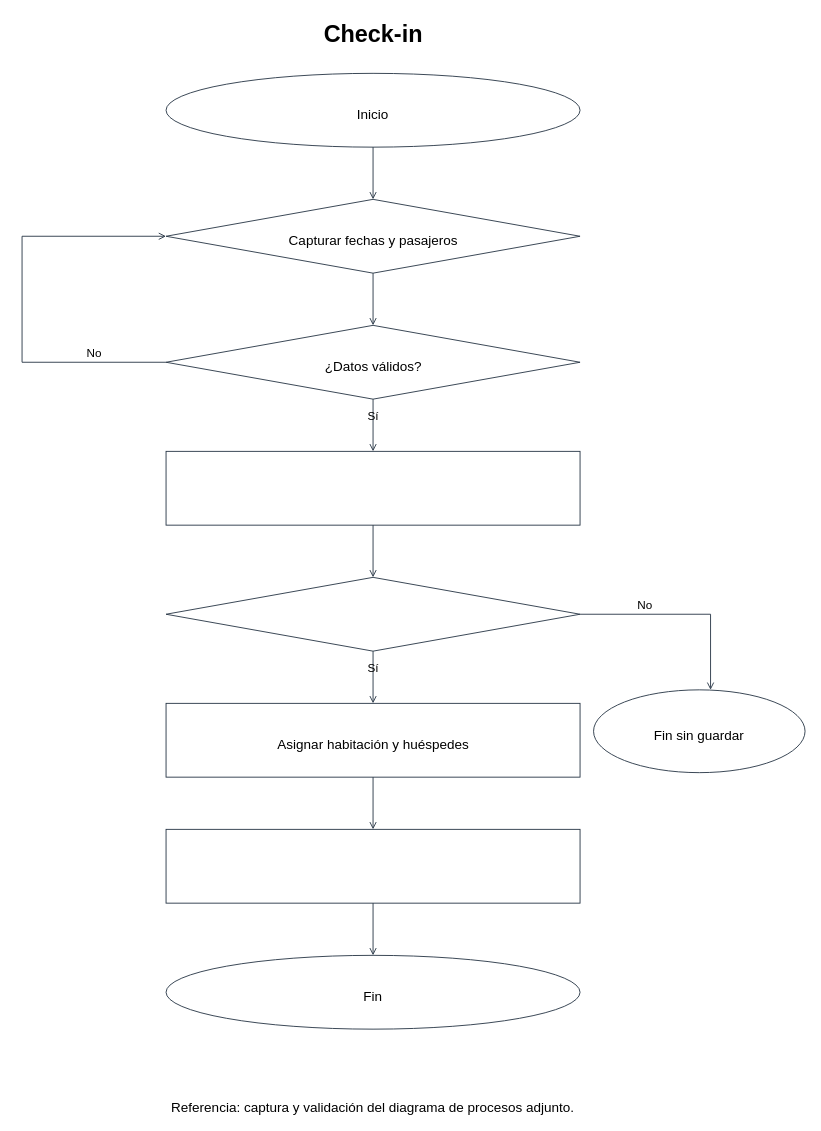
The diagram is 821 pixels wide and 1131 high, and some of its shapes have lost their labels. Each missing label, with the centre of its shape:
Consultar disponibilidad: point (372, 487)
Guardar estadía activa: point (372, 865)
¿Habitación disponible?: point (372, 613)
